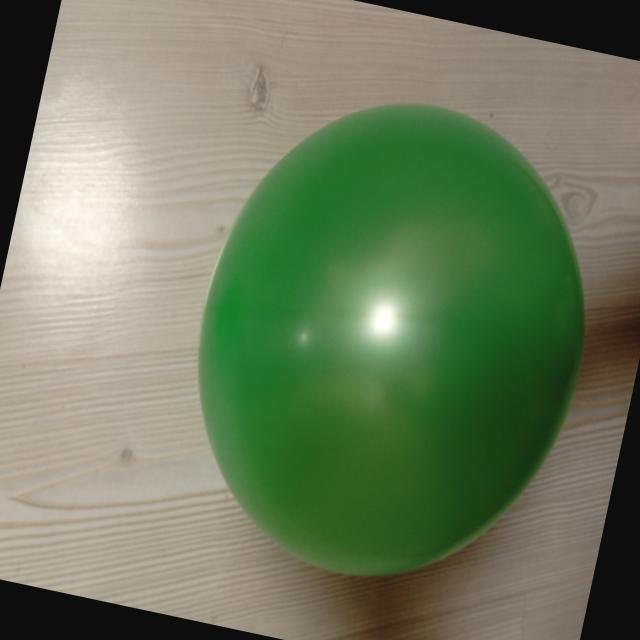balloon: (198, 104, 584, 575)
